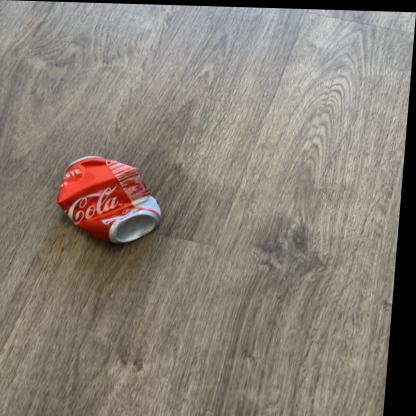trash: (57, 156, 160, 243)
